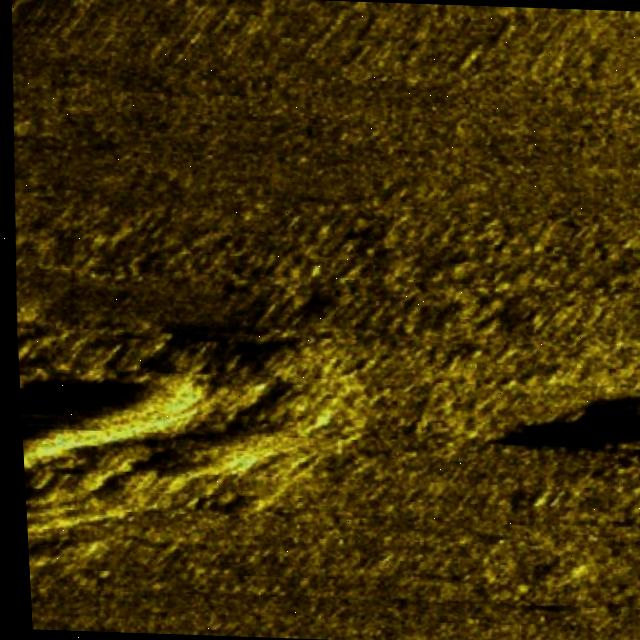bedrock group: (13, 321, 370, 535)
